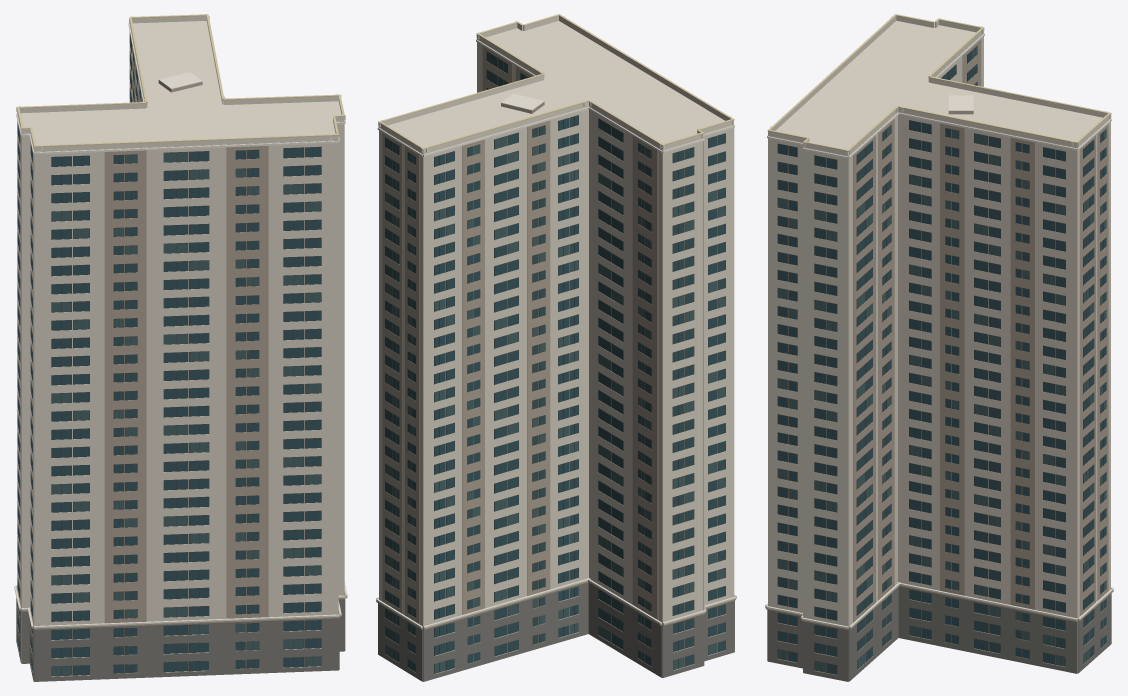
The model's file is bespoke-raemian-prestige-118.glb.
The picture shows the model from 3 angles, left to right: view 1: azimuth 30°, elevation 25°; view 2: azimuth 150°, elevation 25°; view 3: azimuth 270°, elevation 25°; orthographic projection.
Visible parts, largest first — view 1: Prestige_warm_ivory_rendered_wall004, Prestige_recessed_blue_green_window004, Prestige_wide_taupe_pilasters004, Prestige_dark_bronze_thin_window_frame004, Prestige_dark_brown_grey_stone_base004, Prestige_muted_green_window_pair004, Prestige_pale_limestone_band004, Prestige_cream_gold_crown_coping004; view 2: Prestige_warm_ivory_rendered_wall004, Prestige_recessed_blue_green_window004, Prestige_wide_taupe_pilasters004, Prestige_dark_bronze_thin_window_frame004, Prestige_dark_brown_grey_stone_base004, Prestige_muted_green_window_pair004, Prestige_pale_limestone_band004, Prestige_cream_gold_crown_coping004; view 3: Prestige_warm_ivory_rendered_wall004, Prestige_wide_taupe_pilasters004, Prestige_recessed_blue_green_window004, Prestige_dark_bronze_thin_window_frame004, Prestige_dark_brown_grey_stone_base004, Prestige_muted_green_window_pair004, Prestige_pale_limestone_band004, Prestige_cream_gold_crown_coping004.
Boxes of the visible parts, x1,y1,x2,y2 form: Prestige_warm_ivory_rendered_wall004: [17, 16, 344, 676]; Prestige_recessed_blue_green_window004: [17, 34, 321, 675]; Prestige_wide_taupe_pilasters004: [16, 50, 347, 673]; Prestige_dark_bronze_thin_window_frame004: [17, 34, 321, 676]; Prestige_dark_brown_grey_stone_base004: [16, 588, 345, 681]; Prestige_muted_green_window_pair004: [17, 56, 321, 676]; Prestige_pale_limestone_band004: [14, 18, 347, 628]; Prestige_cream_gold_crown_coping004: [16, 14, 345, 147]; Prestige_warm_ivory_rendered_wall004: [379, 16, 734, 681]; Prestige_recessed_blue_green_window004: [385, 52, 725, 671]; Prestige_wide_taupe_pilasters004: [376, 46, 736, 672]; Prestige_dark_bronze_thin_window_frame004: [385, 51, 725, 673]; Prestige_dark_brown_grey_stone_base004: [378, 582, 734, 681]; Prestige_muted_green_window_pair004: [385, 76, 725, 673]; Prestige_pale_limestone_band004: [376, 35, 736, 628]; Prestige_cream_gold_crown_coping004: [378, 14, 734, 149]; Prestige_warm_ivory_rendered_wall004: [768, 16, 1110, 675]; Prestige_wide_taupe_pilasters004: [765, 39, 1113, 670]; Prestige_recessed_blue_green_window004: [778, 52, 1106, 674]; Prestige_dark_bronze_thin_window_frame004: [777, 45, 1106, 674]; Prestige_dark_brown_grey_stone_base004: [767, 586, 1111, 681]; Prestige_muted_green_window_pair004: [778, 46, 1106, 672]; Prestige_pale_limestone_band004: [765, 27, 1113, 628]; Prestige_cream_gold_crown_coping004: [767, 14, 1111, 151].
Size of the model in its own units: 46.08 by 82.1 by 48.86.
